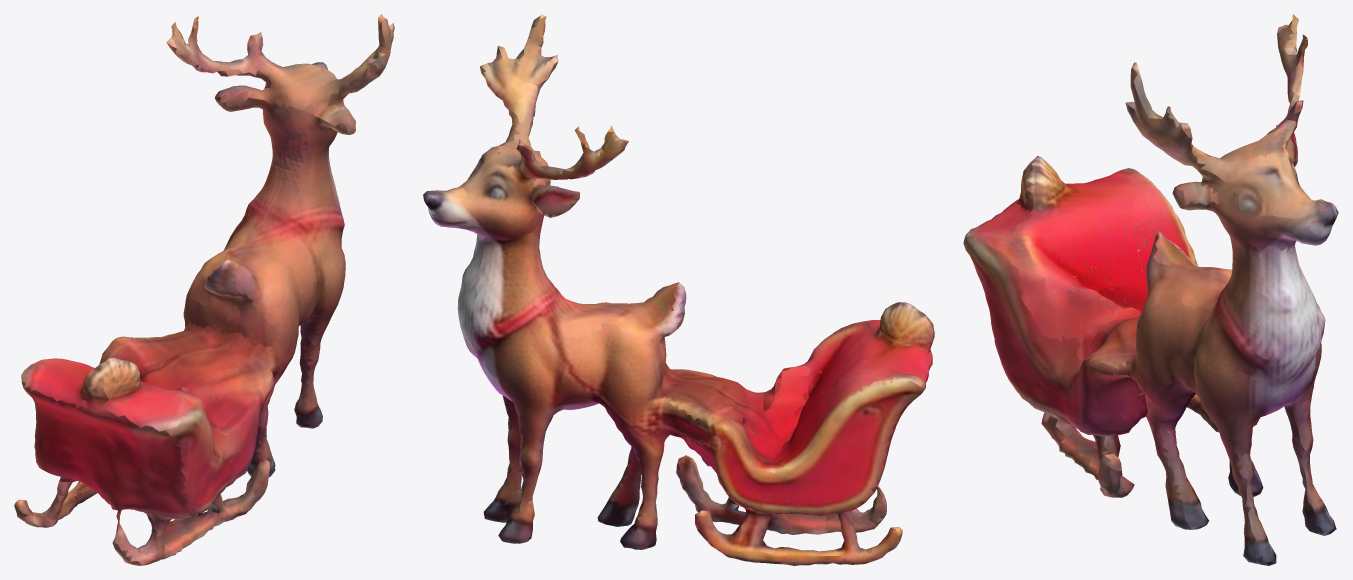
File: 루돌프.glb
3 renders of one model, left to right at view 1: azimuth 30°, elevation 25°; view 2: azimuth 150°, elevation 25°; view 3: azimuth 270°, elevation 25°, orthographic. The views are drawn at different scales.
Parts seen in each view (by area): view 1: world; view 2: world; view 3: world.
Part boxes in pixels (bbox=[...]): world: bbox=[14, 14, 394, 565]; world: bbox=[423, 14, 934, 565]; world: bbox=[963, 14, 1338, 565].
Bounding box in the file's own units: 0.7864 × 0.8642 × 0.5604.
Materials: 1 (1 with a texture image).
